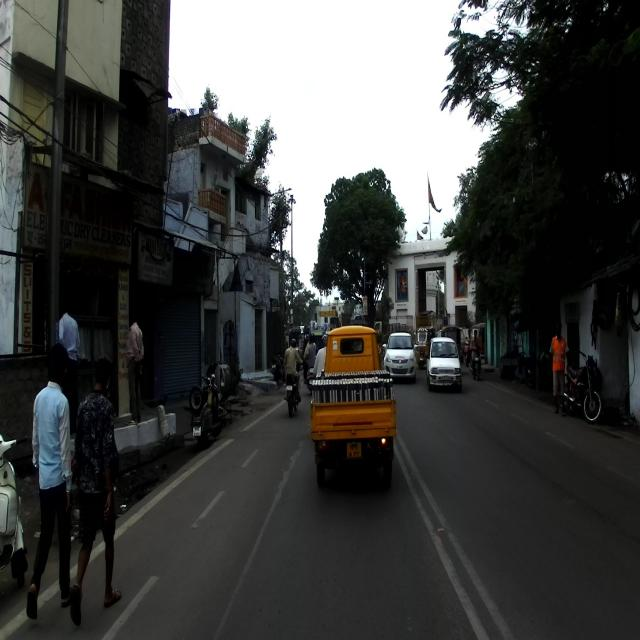autorickshaw: (308, 324, 396, 491)
motorcycle: (560, 350, 604, 422)
scooter: (188, 371, 226, 450)
